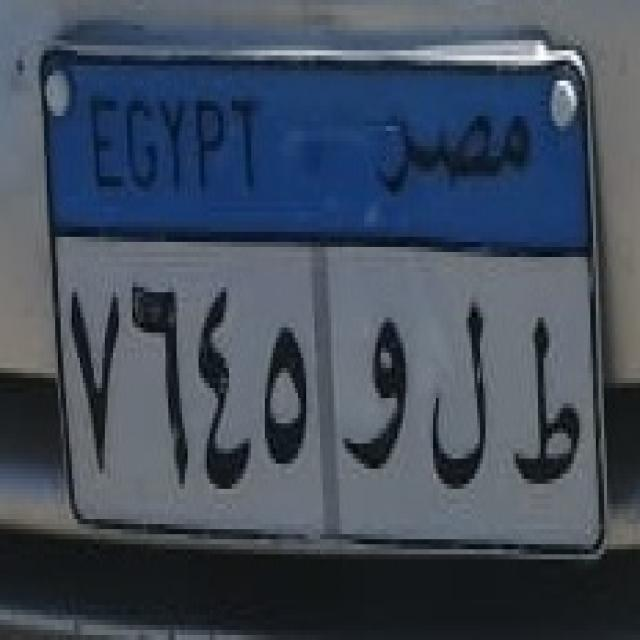4: (194, 274, 254, 498)
5: (258, 316, 317, 475)
6: (122, 272, 194, 490)
7: (61, 278, 134, 476)
Laam: (422, 290, 500, 499)
Taa: (501, 308, 590, 502)
Wow: (342, 298, 416, 489)
